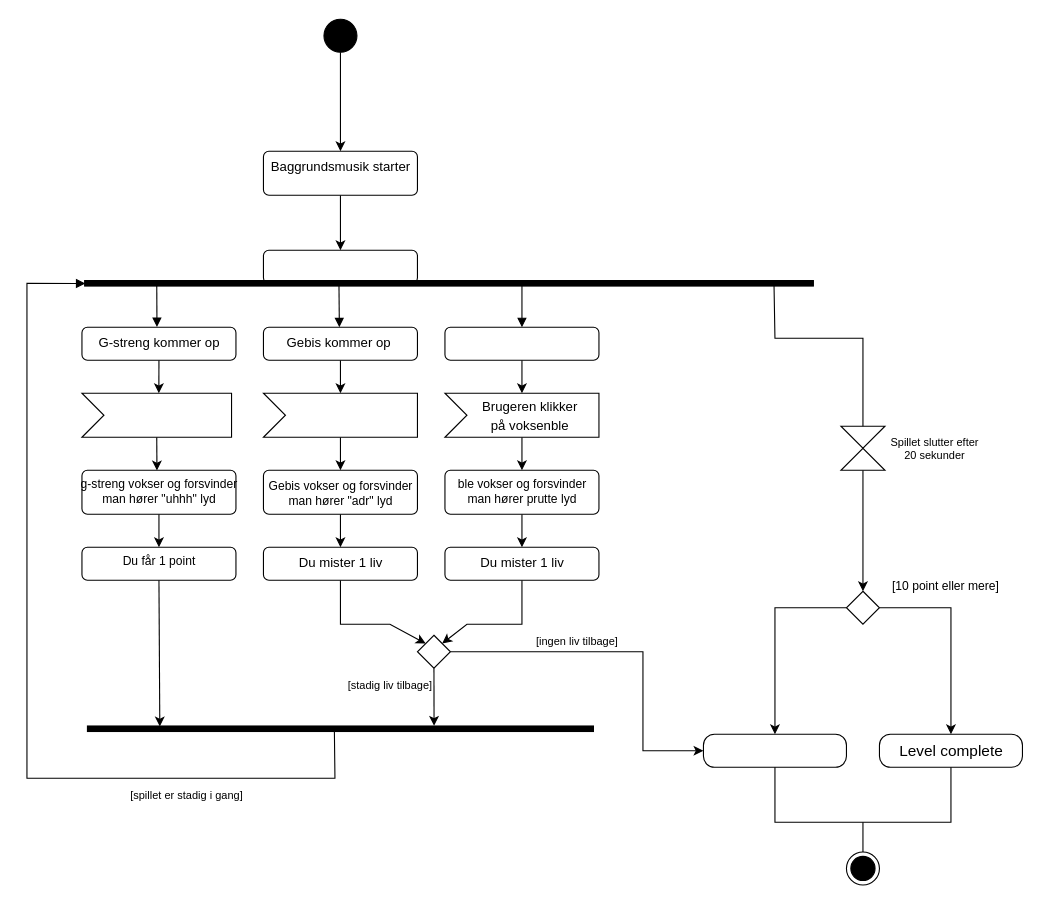
Image size: 1042x904. Some labels were removed from this diagram. Here are the shapes that lost their labels. From the top down, the centre of each, then its label:
At point (339, 266): "Der kommer en infortekst".
At point (521, 343): "Voksenble kommer op".
At point (156, 414): "Brugeren klikker på g-streng".
At point (339, 414): "Brugeren klikker på gebis".
At point (774, 750): "Game over".
